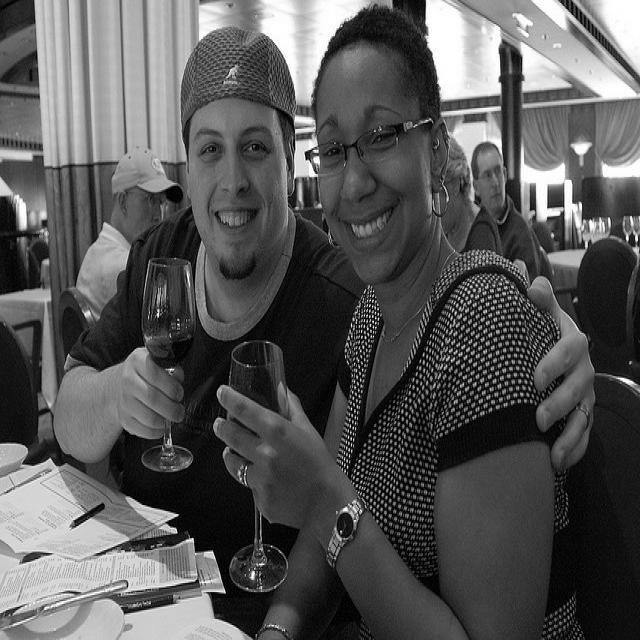monkey: (54, 31, 596, 633), (211, 6, 583, 640), (75, 147, 183, 320), (471, 144, 538, 280), (442, 134, 502, 257), (0, 195, 30, 299), (505, 177, 522, 215)
